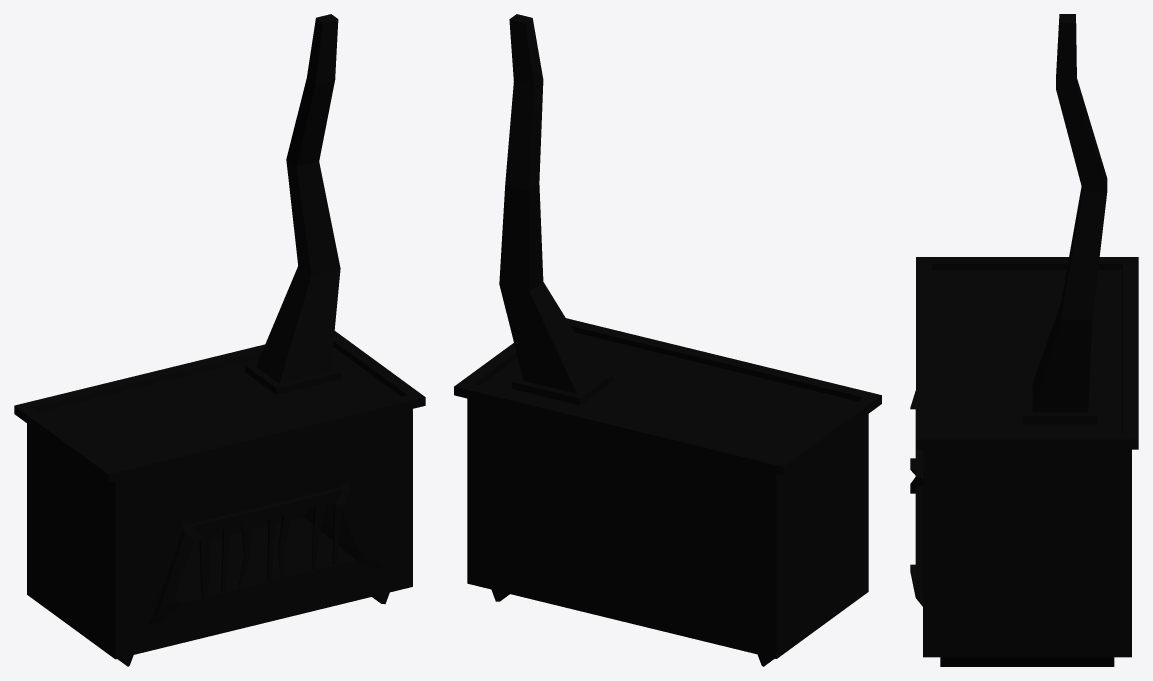
File: stove.fbx
The picture shows the model from 3 angles, left to right: view 1: azimuth 30°, elevation 25°; view 2: azimuth 150°, elevation 25°; view 3: azimuth 270°, elevation 25°; orthographic projection. The views are drawn at different scales.
Parts seen in each view (by area): view 1: stove; view 2: stove; view 3: stove.
Boxes of the visible parts, x1,y1,x2,y2 form: stove: [14, 14, 425, 666]; stove: [454, 14, 881, 666]; stove: [910, 14, 1138, 666].
Size of the model in its own units: 176 by 290 by 92.93.
